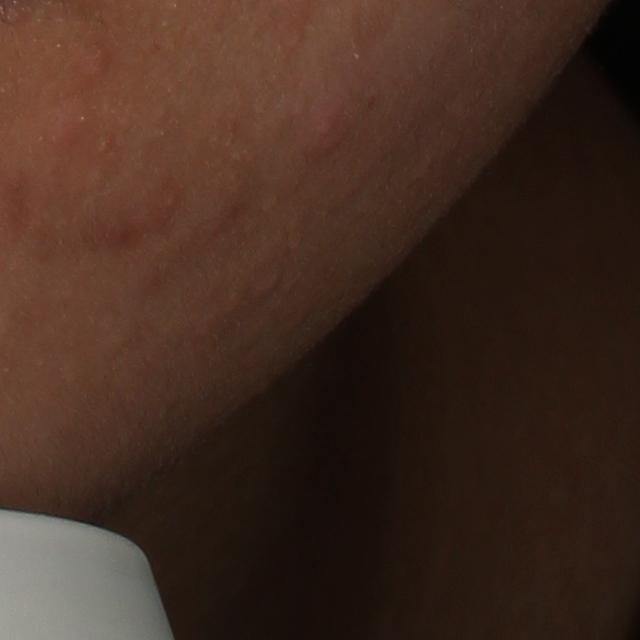papule: (295, 104, 352, 164), (77, 47, 105, 79)
